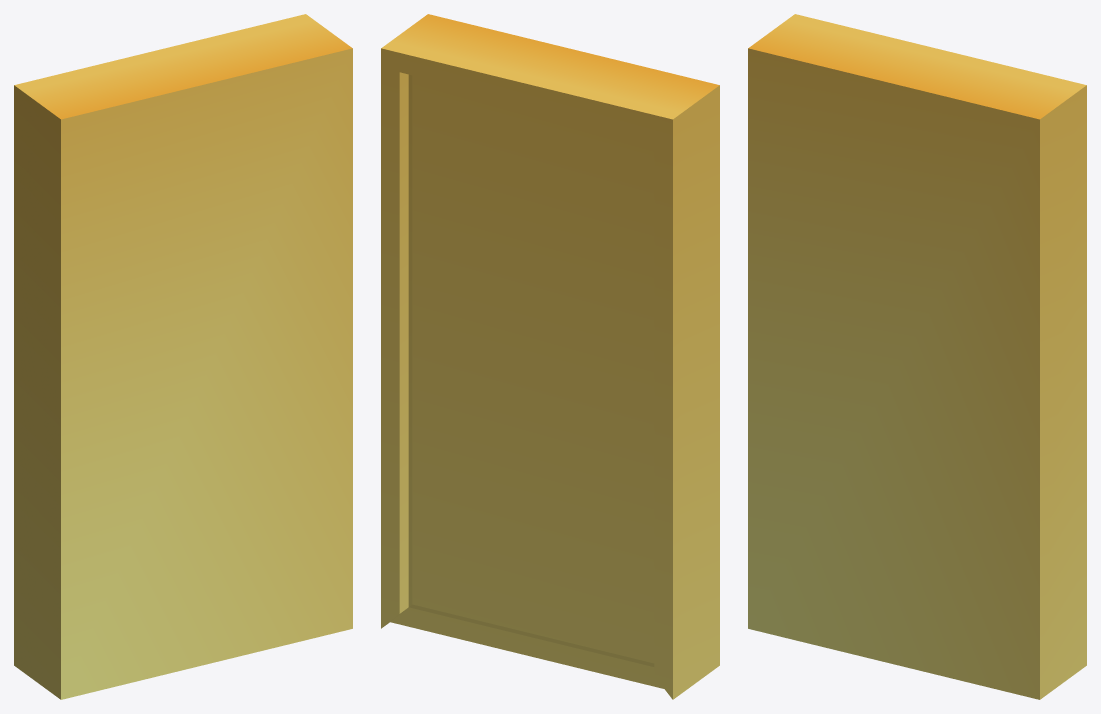
File: muro_stanza_grande 1.fbx
The picture shows the model from 3 angles, left to right: view 1: azimuth 30°, elevation 25°; view 2: azimuth 150°, elevation 25°; view 3: azimuth 330°, elevation 25°; orthographic projection.
Parts seen in each view (by area): view 1: muro_stanza_grande; view 2: muro_stanza_grande; view 3: muro_stanza_grande.
Part boxes in pixels (box(x1,y1,x2,y2)): muro_stanza_grande: box(14, 14, 352, 699); muro_stanza_grande: box(381, 14, 719, 699); muro_stanza_grande: box(748, 14, 1086, 699).
Bounding box in the file's own units: 4634 × 8811 × 1291.
1 material, 1 textured.
